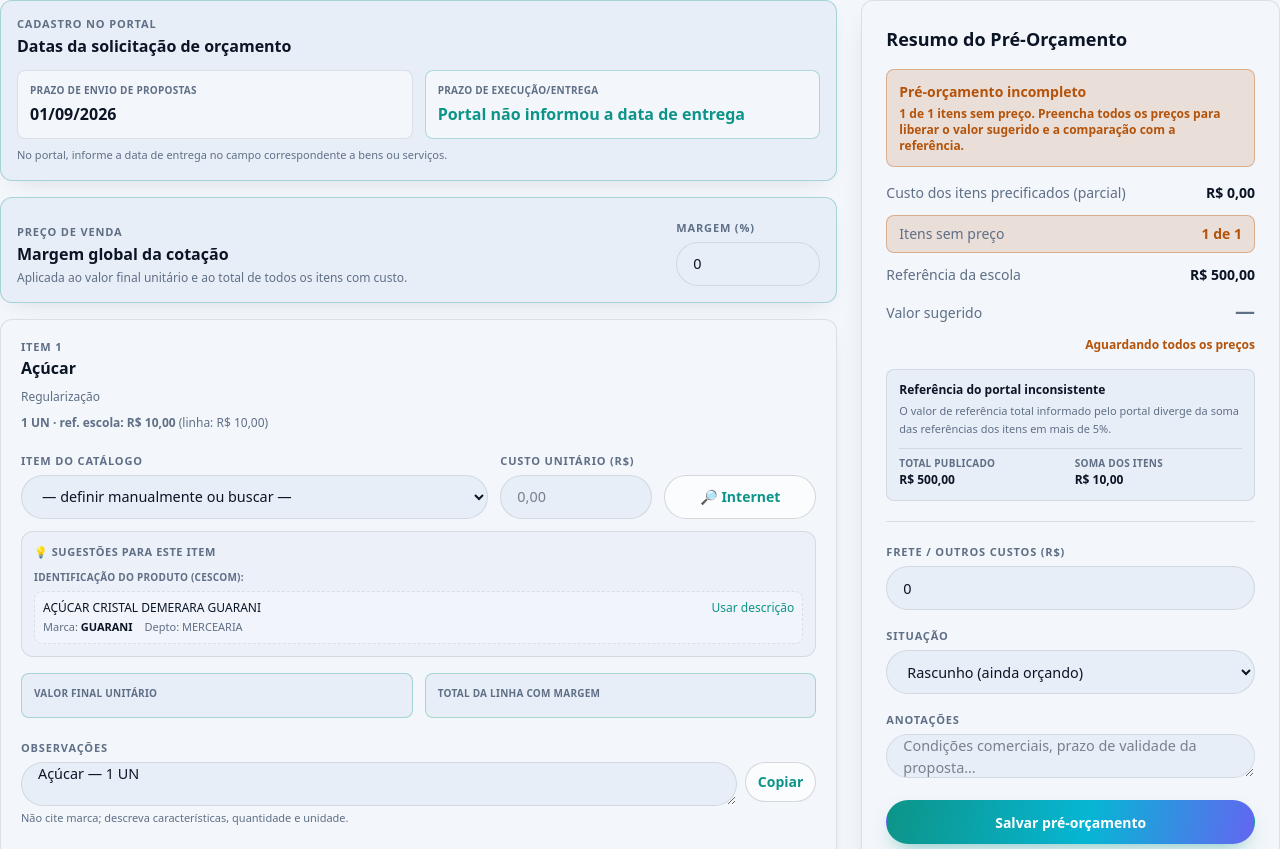
Test: PrequoteWorksheet - Sugestões Automáticas › deixa sugestão Cescom substituir somente a descrição gerada e remove a marca
This screenshot has width=1280, height=849.
Expected: the 2nd text box holds "Açúcar — 1 UN", [21,762,737,806]
Click the button "Usar descrição": (753, 608) [712,600,794,616]
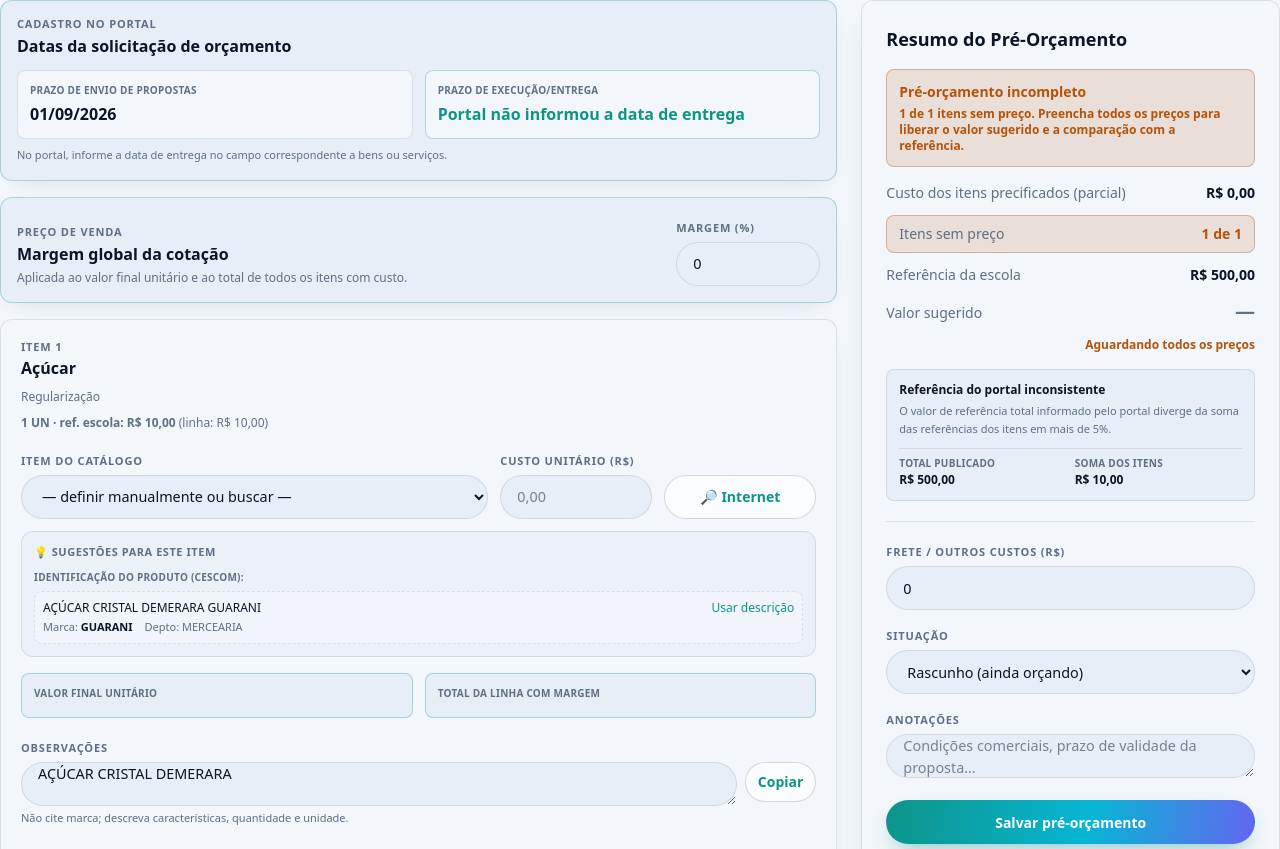
Now the 2nd text box holds "AÇÚCAR CRISTAL DEMERARA", box [21,762,737,806]
